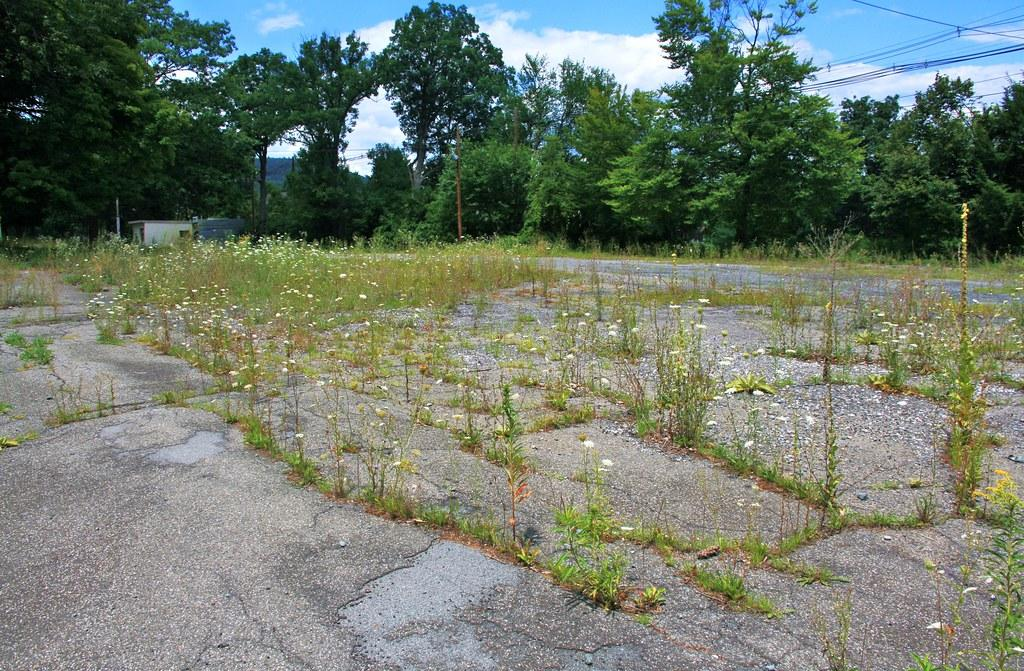overgrown grass: (75, 240, 554, 317), (545, 296, 709, 435), (690, 388, 847, 528), (135, 288, 279, 391), (285, 316, 457, 390), (677, 535, 834, 611), (949, 193, 981, 509), (560, 260, 830, 297), (555, 495, 637, 602), (988, 488, 1024, 668), (295, 405, 355, 508), (647, 335, 712, 428), (917, 585, 987, 671), (810, 587, 880, 671), (418, 492, 503, 551), (898, 272, 938, 385), (496, 454, 538, 553), (838, 288, 881, 378), (56, 381, 134, 425), (226, 398, 286, 448), (10, 323, 66, 370), (552, 376, 602, 423), (84, 297, 135, 340), (367, 443, 400, 505), (6, 252, 38, 302), (825, 228, 836, 370), (849, 510, 921, 531), (883, 327, 902, 392), (485, 325, 504, 365), (467, 290, 493, 315), (515, 306, 538, 328), (510, 337, 524, 360)
